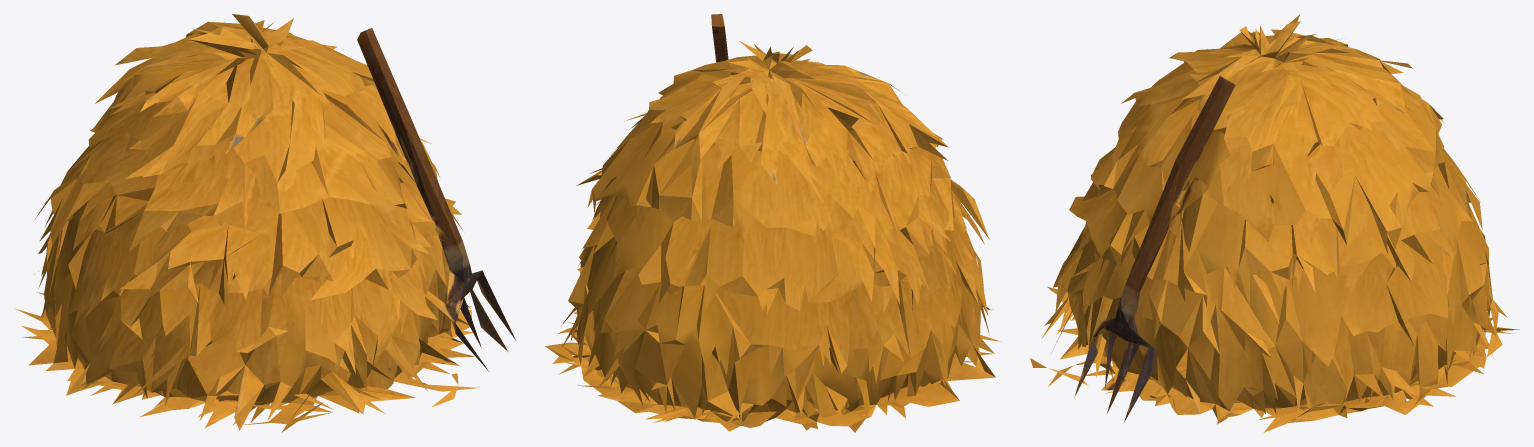
Rendered from prop_haystack.glb.
3 renders of one model, left to right at view 1: azimuth 30°, elevation 25°; view 2: azimuth 150°, elevation 25°; view 3: azimuth 270°, elevation 25°, orthographic. The views are drawn at different scales.
Visible parts, largest first — view 1: output_unwrapped; view 2: output_unwrapped; view 3: output_unwrapped.
Boxes of the visible parts, x1,y1,x2,y2 form: output_unwrapped: [15, 14, 515, 432]; output_unwrapped: [545, 14, 1000, 432]; output_unwrapped: [1030, 14, 1519, 432].
Size of the model in its own units: 1.85 by 1.31 by 1.88.
1 material, 1 textured.
